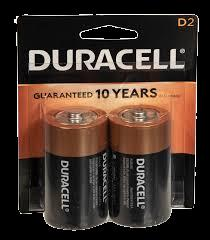Battery: (42, 105, 111, 231), (106, 105, 172, 228)
